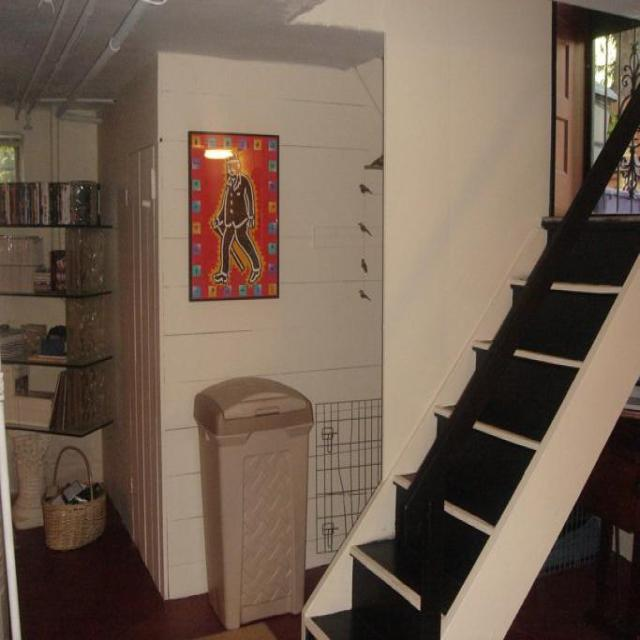shelves: (0, 180, 114, 437)
stairs: (300, 80, 638, 638)
windows: (585, 20, 639, 215)
